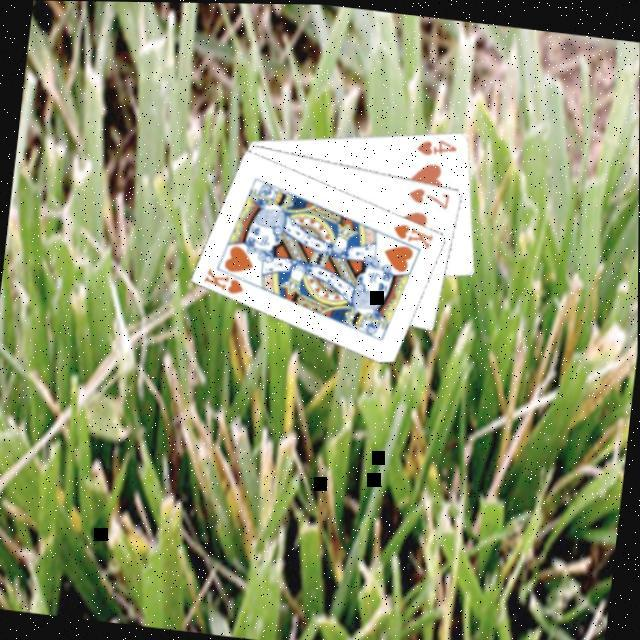4H: (411, 128, 459, 158)
7H: (402, 179, 452, 209)
KH: (198, 260, 247, 295), (386, 215, 435, 249)
